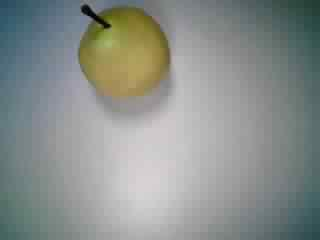pear: (59, 1, 175, 98)
